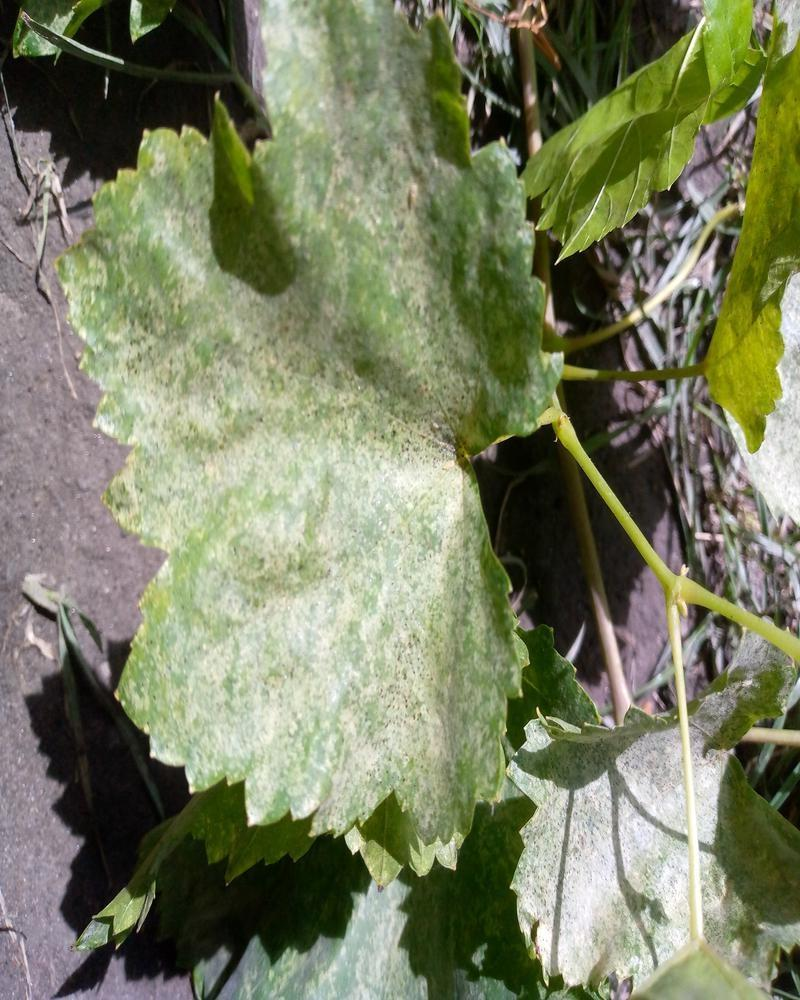Powdery-Mildew: (104, 325, 473, 766), (162, 544, 369, 806), (356, 53, 462, 321), (259, 0, 366, 259), (135, 160, 249, 327)
